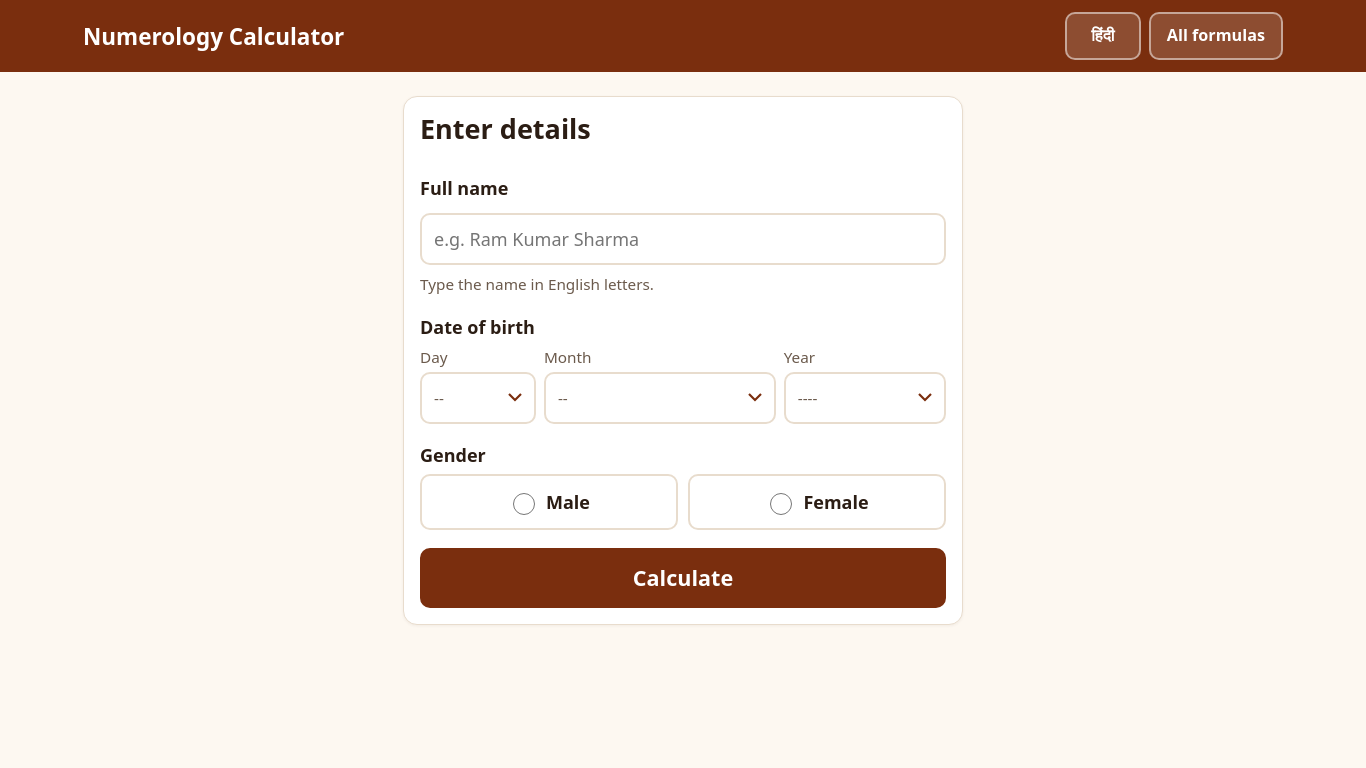
Test case: entering details › rejects a date that does not exist
The width and height of the screenshot is (1366, 768).
Type "Ram Kumar" into the field labelled "Full name".
click(683, 240); type("Ram Kumar")  # box [420,214,946,266]
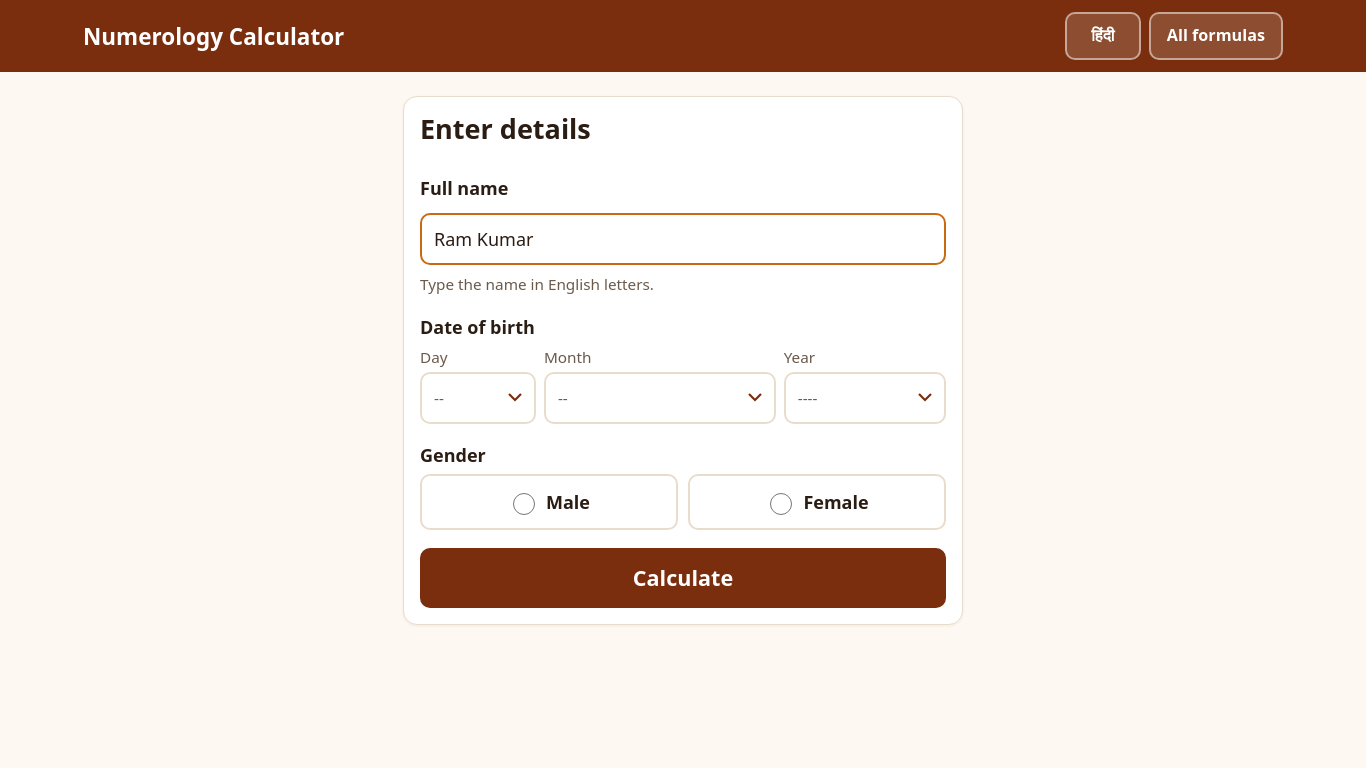
Select "31" in the dropdown labelled "Day" at [478, 398], box [420,372,536,424]
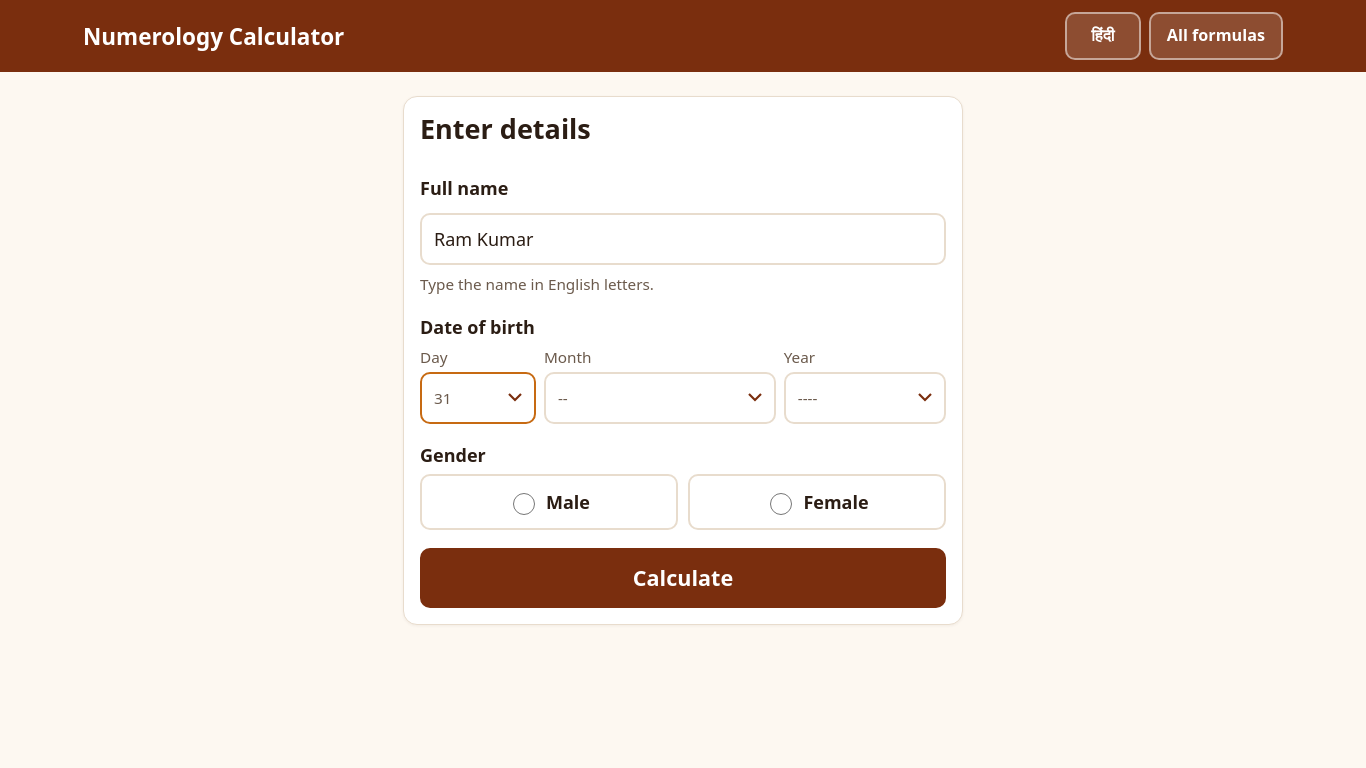
Select "2 – February" in the dropdown labelled "Month" at [660, 398], box [544,372,776,424]
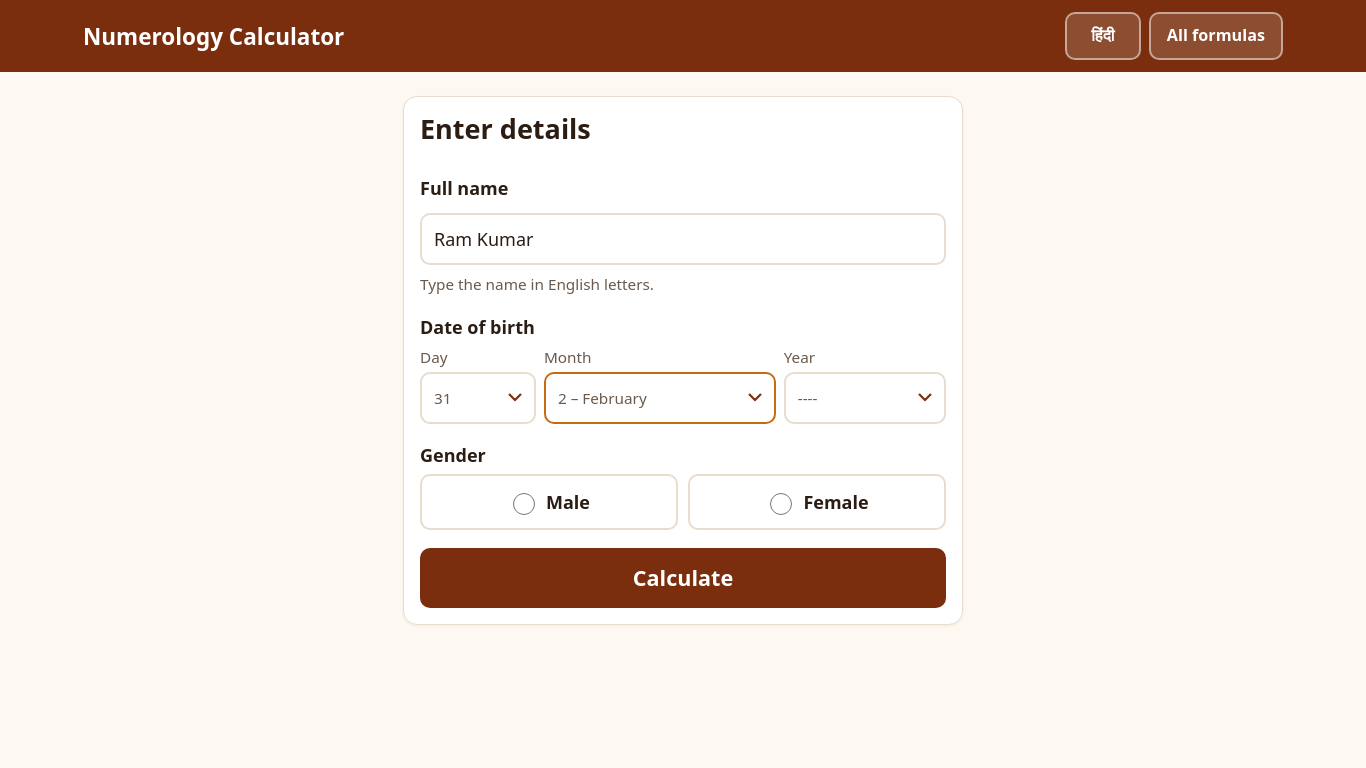
Select "1985" in the dropdown labelled "Year" at [865, 398], box [784,372,946,424]
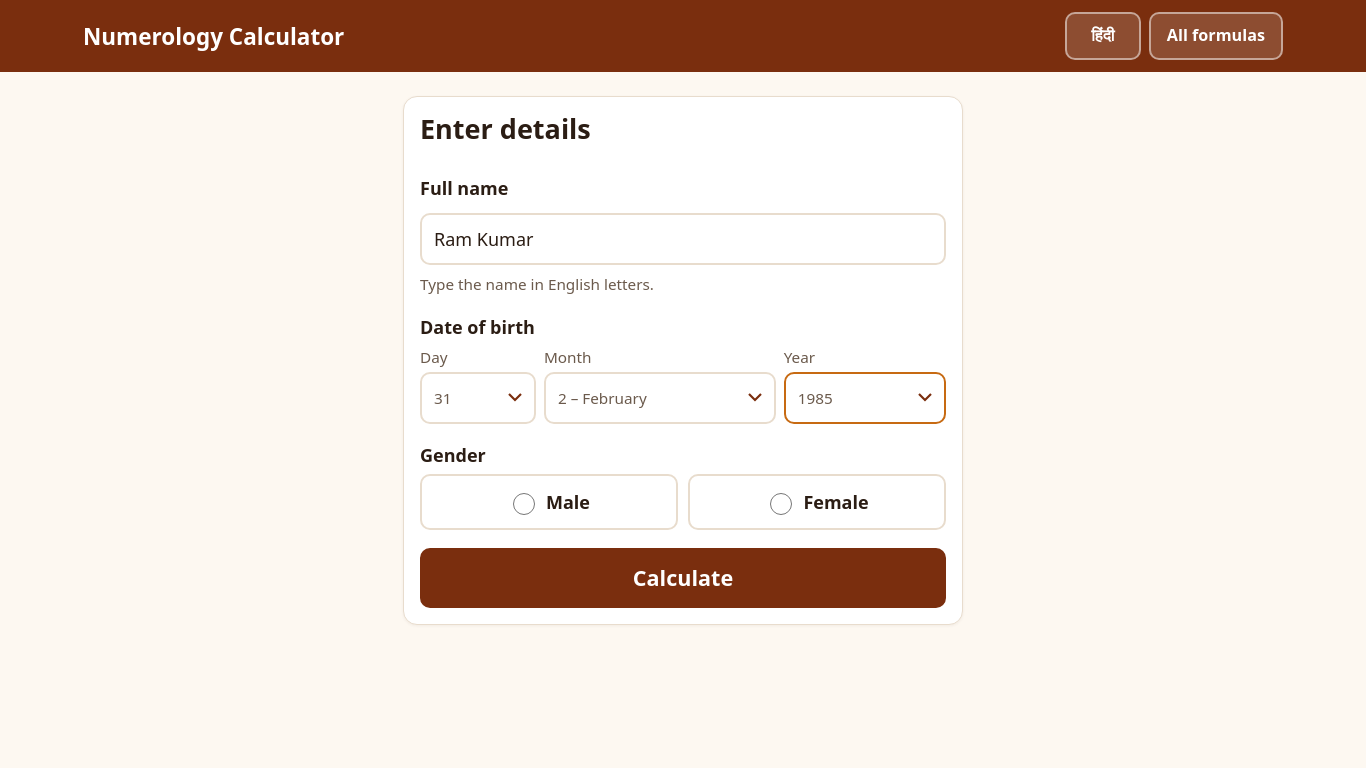
Click the radio button labelled "Male".
click(524, 504)  # box [513,492,535,514]
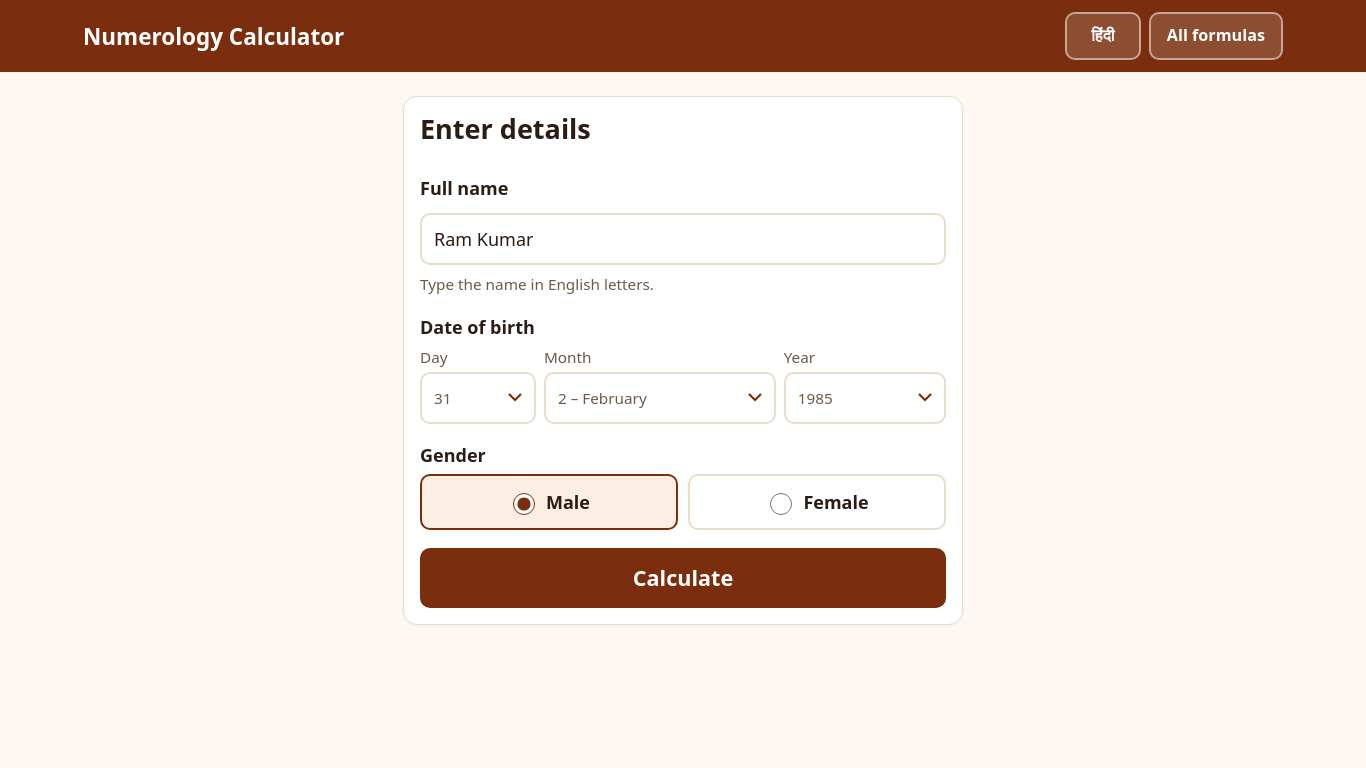
Click the button "Calculate".
click(683, 578)  # box [420,548,946,608]
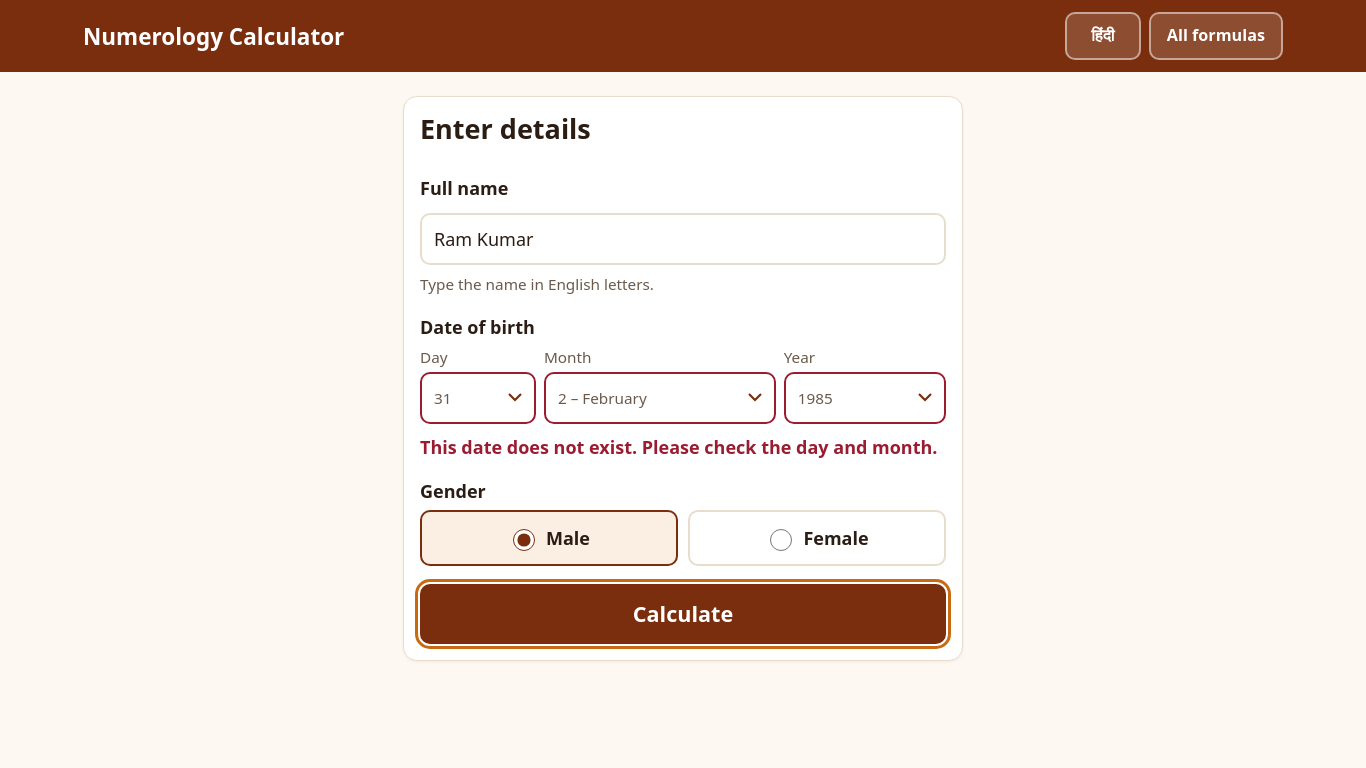
Check: the message shows "This date does not exist", box [420,435,938,459]
